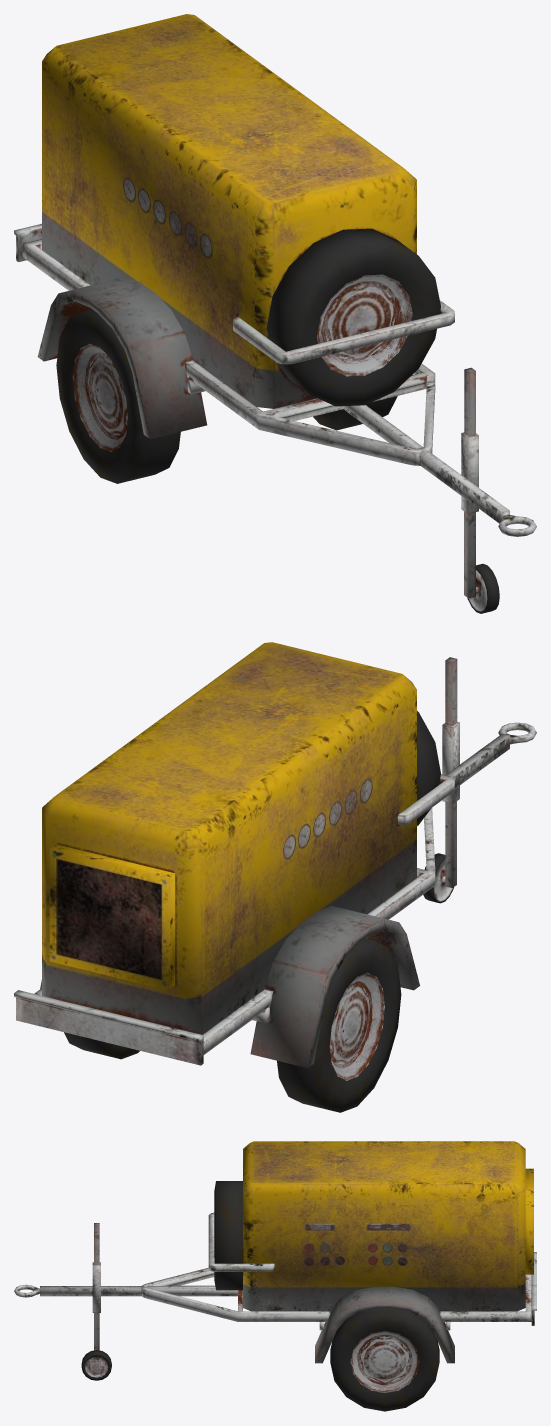
File: generatore.glb
3 renders of one model, top to bottom at view 1: azimuth 30°, elevation 25°; view 2: azimuth 150°, elevation 25°; view 3: azimuth 270°, elevation 25°, orthographic. The views are drawn at different scales.
Visible parts, largest first — view 1: Torus.003; view 2: Torus.003; view 3: Torus.003.
Boxes of the visible parts, x1=… form: Torus.003: x1=14, y1=14, x2=536, y2=613; Torus.003: x1=14, y1=642, x2=536, y2=1112; Torus.003: x1=14, y1=1141, x2=536, y2=1411.
Bounding box in the file's own units: 846 × 1011 × 2283.
Materials: 2 (2 with a texture image).
